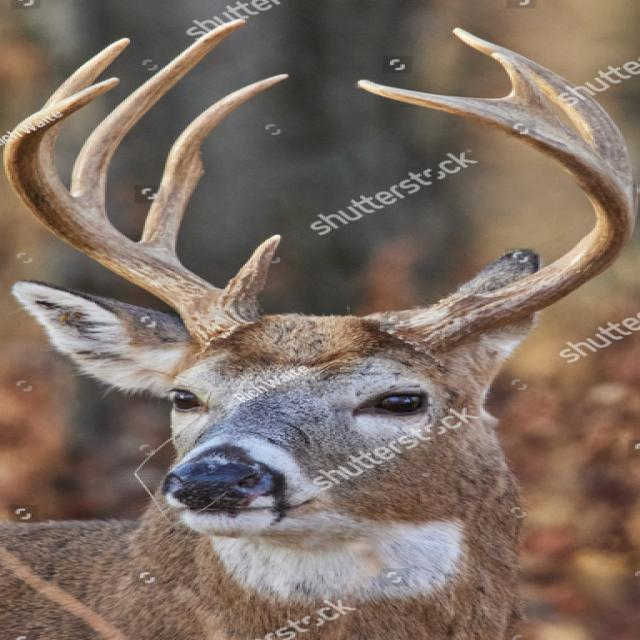E1: (490, 52, 561, 120)
L-F: (356, 79, 637, 365)
R-F: (2, 76, 262, 351)
R-G1: (216, 234, 282, 310)
R-G2: (139, 74, 289, 264)
R-G3: (71, 19, 247, 222)
